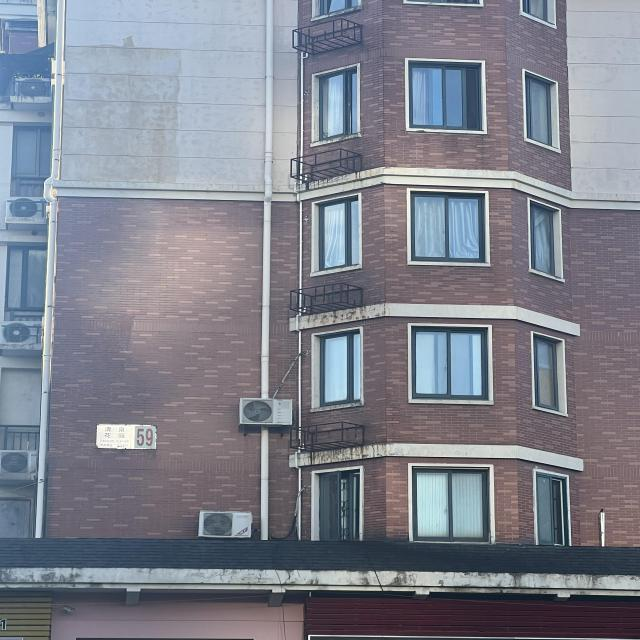damp: (62, 35, 185, 184), (11, 570, 618, 593), (299, 305, 372, 332), (305, 445, 381, 469), (306, 169, 360, 189)
